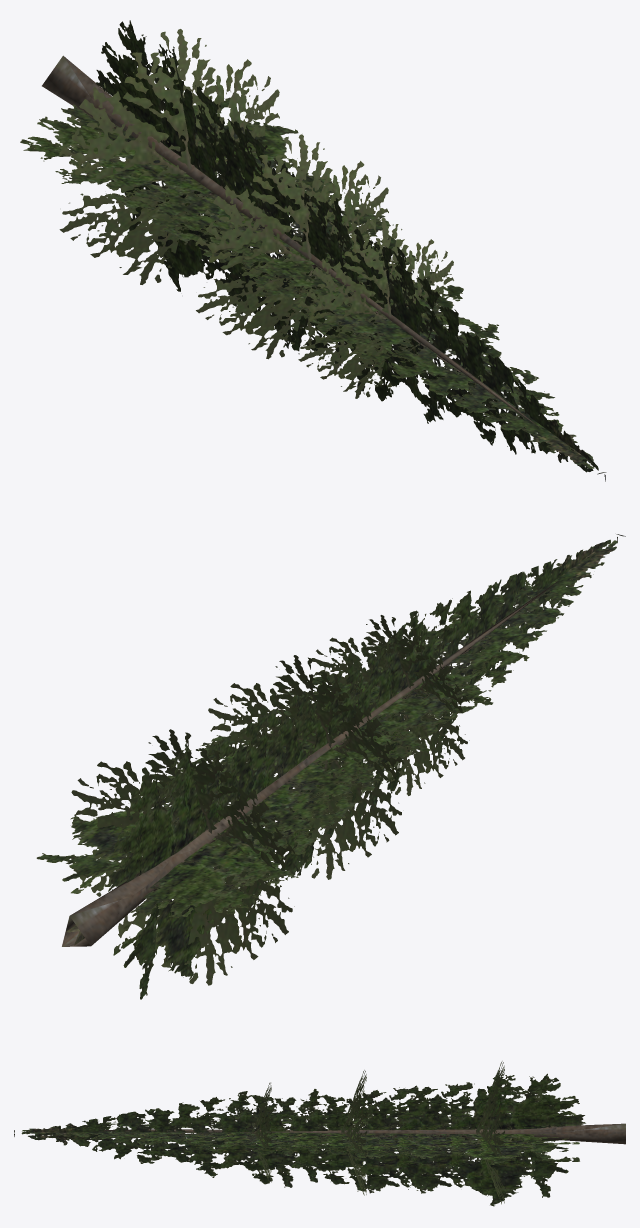
File: tree_background_03.obj
3 renders of one model, top to bottom at view 1: azimuth 30°, elevation 25°; view 2: azimuth 150°, elevation 25°; view 3: azimuth 270°, elevation 25°, orthographic. The views are drawn at different scales.
Parts seen in each view (by area): view 1: tree_background_03; view 2: tree_background_03; view 3: tree_background_03.
Boxes of the visible parts, left/top/right/bottom form: tree_background_03: left=20, top=20, right=606, bottom=481; tree_background_03: left=36, top=534, right=625, bottom=999; tree_background_03: left=14, top=1061, right=625, bottom=1206.
Size of the model in its own units: 6.97 by 7.05 by 26.01.
1 material, 1 textured.
